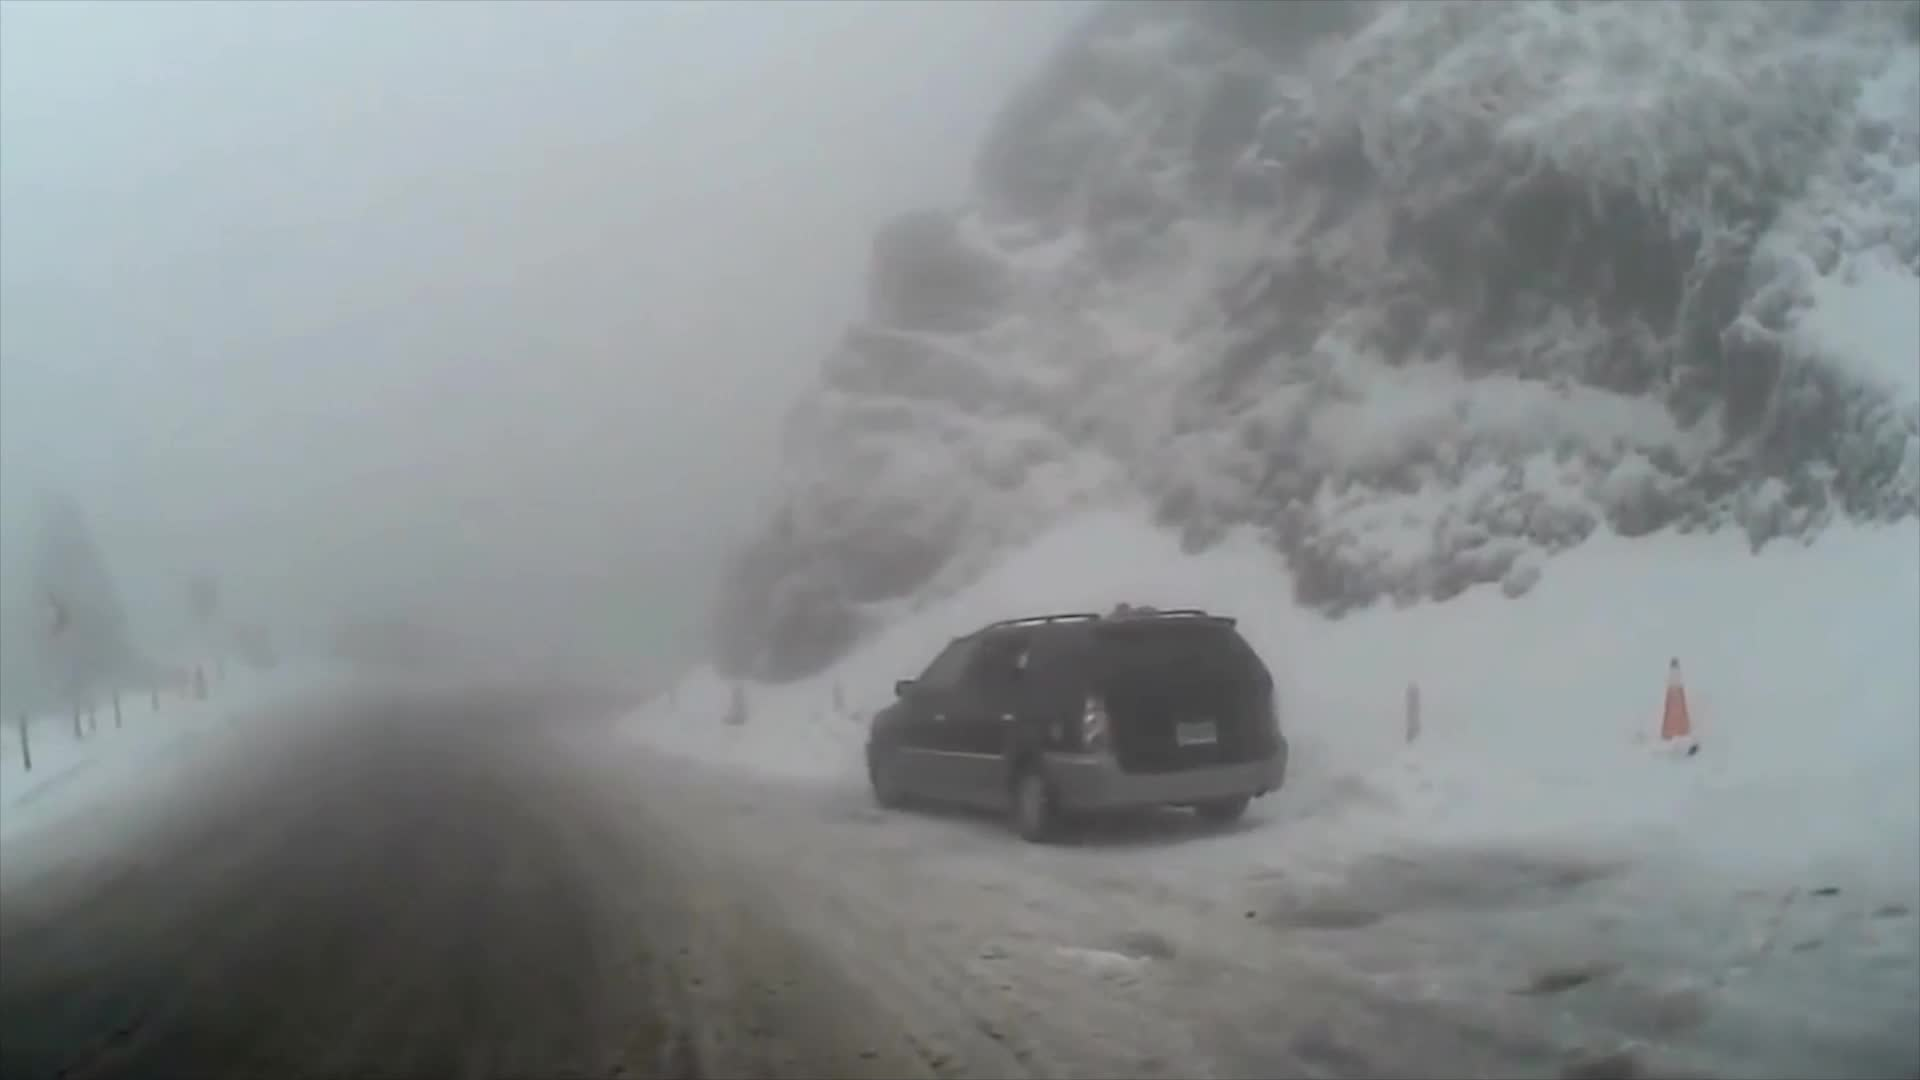vehicle: (861, 607, 1290, 844)
